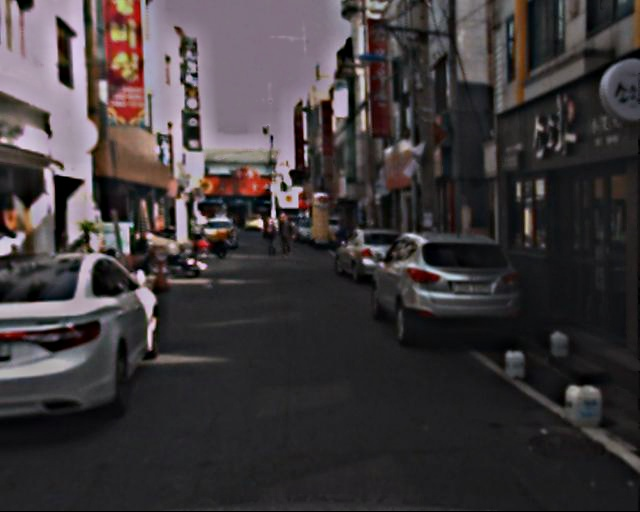person: (333, 214, 354, 269), (279, 214, 299, 265), (262, 214, 282, 260)
